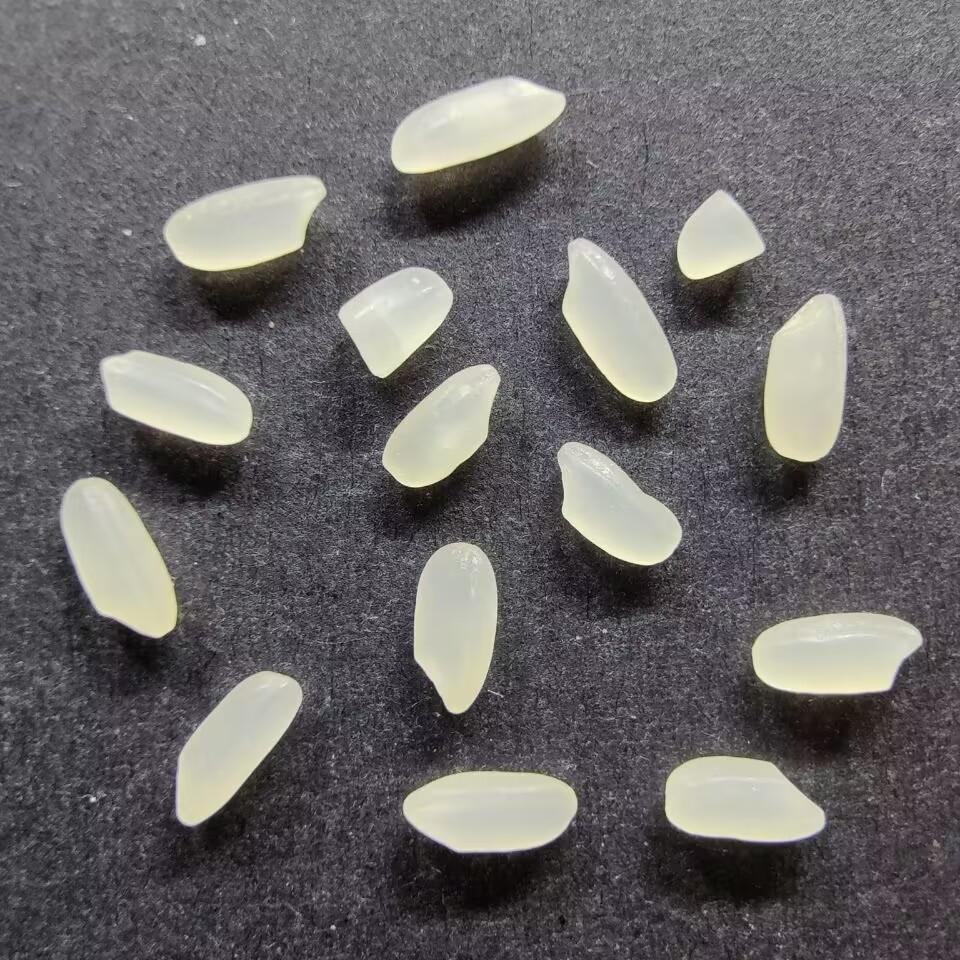broken: (334, 265, 453, 379), (673, 188, 767, 281)
rice: (171, 669, 302, 828), (57, 477, 178, 640), (559, 237, 677, 402), (387, 76, 566, 175), (162, 173, 327, 272), (554, 440, 682, 566), (97, 349, 255, 448), (380, 361, 501, 488), (411, 540, 498, 715), (760, 291, 849, 462), (751, 611, 927, 697), (401, 769, 578, 854), (662, 754, 828, 844)
